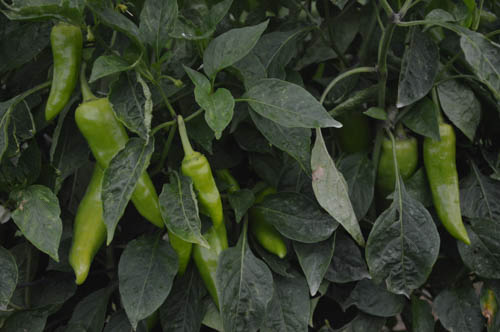ChiliPepper: (78, 100, 159, 226), (68, 167, 117, 279), (430, 123, 468, 241), (47, 27, 84, 118), (185, 154, 228, 225), (249, 187, 284, 259), (377, 135, 422, 190), (334, 110, 373, 152), (195, 239, 221, 296), (170, 234, 192, 273)
